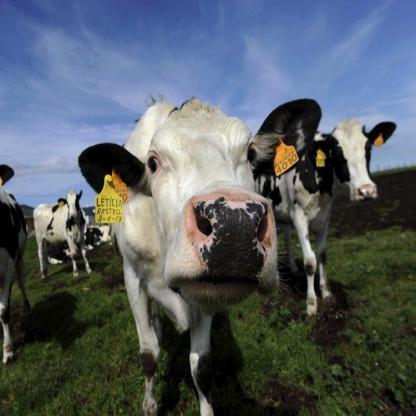cow: (78, 94, 322, 416), (252, 118, 398, 318), (0, 162, 34, 366), (32, 187, 92, 279), (85, 223, 114, 246)
